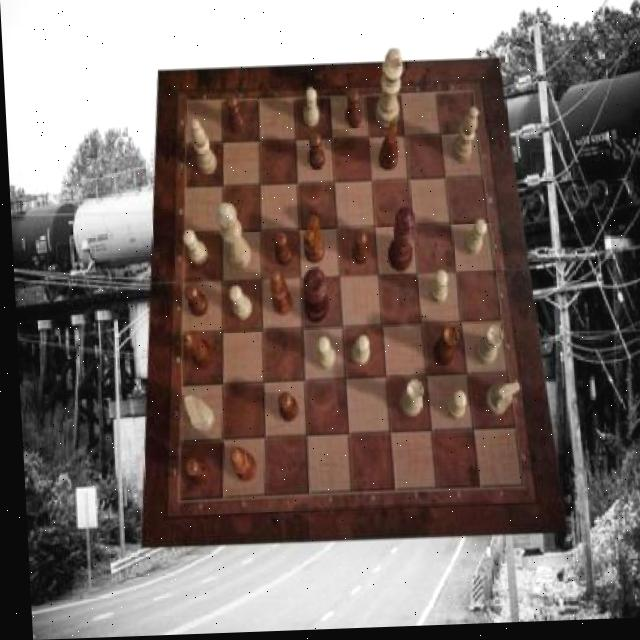bishop: (267, 272, 290, 319), (227, 448, 254, 484)
black-bishop: (301, 270, 327, 325)
black-king: (300, 217, 323, 265), (376, 126, 399, 174)
black-knight: (181, 285, 206, 320), (224, 96, 245, 135), (181, 459, 206, 488), (273, 393, 295, 425), (343, 93, 360, 133), (350, 231, 368, 268), (306, 135, 324, 172), (272, 234, 291, 269)
black-pawn: (383, 210, 415, 276)
black-queen: (181, 331, 211, 372), (429, 329, 455, 371)
black-rook: (450, 111, 480, 166), (190, 120, 216, 177)
white-bishop: (372, 51, 405, 132)
white-king: (481, 384, 518, 420), (181, 396, 211, 435)
white-knight: (180, 231, 206, 266), (460, 223, 486, 258), (226, 285, 250, 321), (301, 91, 319, 131), (313, 338, 333, 373), (427, 272, 446, 307), (441, 394, 463, 423), (348, 337, 367, 369)
white-pawn: (213, 204, 250, 272)
white-queen: (469, 329, 501, 370), (395, 382, 420, 420)
